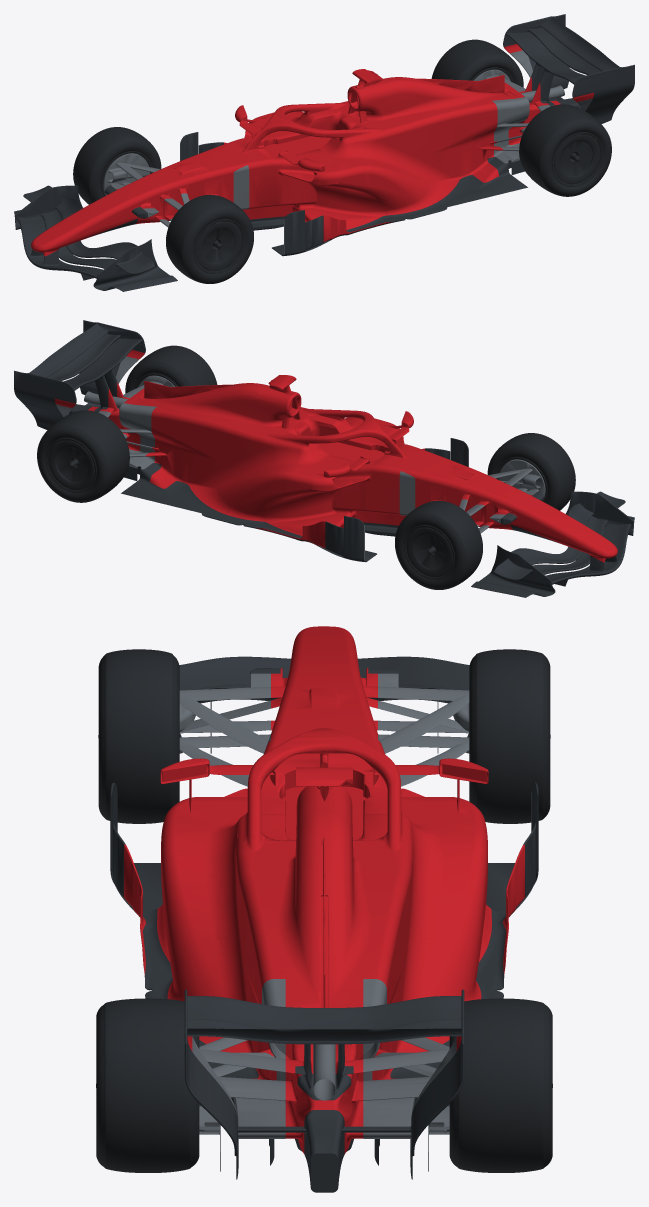
Rendered from formation-car.glb.
The picture shows the model from 3 angles, top to bottom: view 1: azimuth 30°, elevation 25°; view 2: azimuth 150°, elevation 25°; view 3: azimuth 270°, elevation 25°; orthographic projection. The views are drawn at different scales.
Parts seen in each view (by area): view 1: left-sidepod, chassis, front-wing, rear-wing, engine-cover, rear-left-wheel, front-left-wheel, floor, front-right-wheel, halo, rear-right-wheel, rear-suspension (+3 smaller); view 2: right-sidepod, chassis, front-wing, rear-wing, engine-cover, rear-right-wheel, front-right-wheel, floor, front-left-wheel, halo, rear-left-wheel, rear-suspension (+3 smaller); view 3: engine-cover, chassis, rear-wing, right-sidepod, left-sidepod, rear-left-wheel, rear-right-wheel, front-right-wheel, front-left-wheel, rear-suspension, front-suspension, floor (+4 smaller).
Part boxes in pixels (box(x1,y1,x2,y2)): left-sidepod: box(281, 106, 503, 242); chassis: box(31, 76, 560, 256); front-wing: box(14, 185, 177, 291); rear-wing: box(503, 14, 634, 123); engine-cover: box(335, 44, 593, 139); rear-left-wheel: box(519, 104, 611, 196); front-left-wheel: box(166, 194, 253, 283); floor: box(180, 132, 527, 256); front-right-wheel: box(73, 127, 161, 204); halo: box(245, 103, 375, 148); rear-right-wheel: box(431, 39, 523, 87); rear-suspension: box(473, 50, 592, 163); right-sidepod: box(145, 412, 367, 548); chassis: box(88, 382, 617, 562); front-wing: box(471, 491, 634, 597); rear-wing: box(14, 320, 145, 429); engine-cover: box(55, 350, 313, 445); rear-right-wheel: box(37, 410, 129, 502); front-right-wheel: box(395, 500, 482, 589); floor: box(121, 438, 468, 562); front-left-wheel: box(487, 433, 575, 510); halo: box(273, 409, 403, 454); rear-left-wheel: box(125, 345, 217, 393); rear-suspension: box(56, 356, 175, 469); engine-cover: box(187, 767, 461, 1050); chassis: box(234, 626, 414, 1154); rear-wing: box(184, 989, 464, 1192); right-sidepod: box(384, 765, 524, 1079); left-sidepod: box(124, 765, 264, 1079); rear-left-wheel: box(96, 998, 199, 1172); rear-right-wheel: box(449, 998, 552, 1172); front-right-wheel: box(469, 649, 550, 823); front-left-wheel: box(98, 649, 179, 823); rear-suspension: box(192, 979, 456, 1152); front-suspension: box(179, 673, 531, 827); floor: box(110, 782, 538, 1179).
Bounding box in the file's own units: 5394 × 1099 × 1882.
